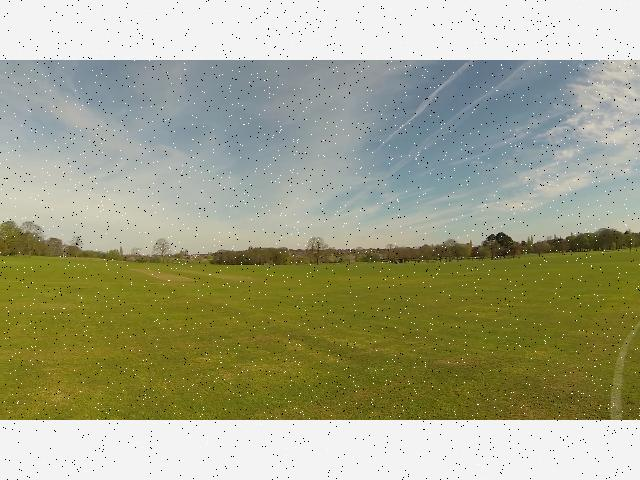Anti-Drone: (404, 150, 432, 164)
